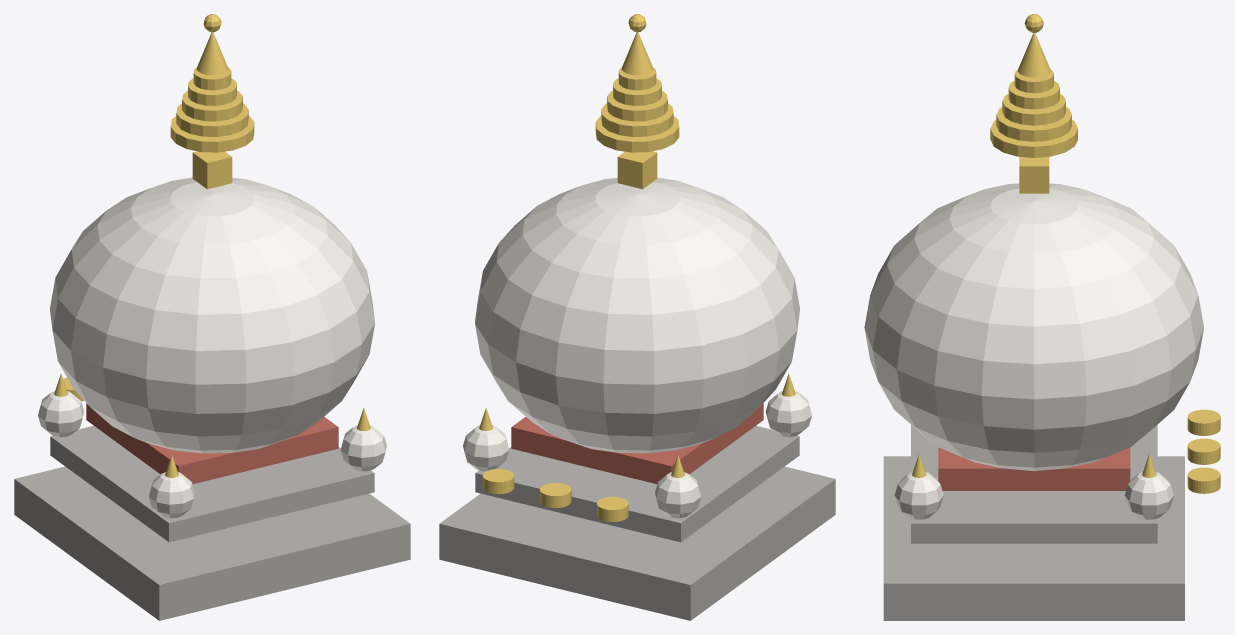
File: roadside_shrine.glb
3 renders of one model, left to right at view 1: azimuth 30°, elevation 25°; view 2: azimuth 150°, elevation 25°; view 3: azimuth 270°, elevation 25°, orthographic. The views are drawn at different scales.
Visible parts, largest first — view 1: Sphere, Cube, Cube.001, Cube.002, Sphere.002, Sphere.003, Sphere.004, Cylinder, Cube.003, Cylinder.001, Cylinder.002, Cylinder.003 (+2 smaller); view 2: Sphere, Cube, Cube.001, Cube.002, Sphere.002, Sphere.003, Sphere.005, Cylinder, Cube.003, Cylinder.001, Cylinder.002, Cylinder.003 (+5 smaller); view 3: Sphere, Cube, Cube.001, Cube.002, Sphere.004, Sphere.005, Cylinder, Cylinder.001, Cylinder.002, Cube.003, Cylinder.003, Cone (+4 smaller).
Boxes of the visible parts, x1=… form: Sphere: x1=50, y1=177, x2=374, y2=453; Cube: x1=14, y1=466, x2=410, y2=620; Cube.001: x1=50, y1=426, x2=374, y2=542; Cube.002: x1=86, y1=403, x2=338, y2=483; Sphere.002: x1=148, y1=472, x2=194, y2=518; Sphere.003: x1=38, y1=391, x2=84, y2=437; Sphere.004: x1=340, y1=425, x2=386, y2=471; Cylinder: x1=170, y1=115, x2=254, y2=152; Cube.003: x1=192, y1=151, x2=232, y2=189; Cylinder.001: x1=176, y1=103, x2=248, y2=136; Cylinder.002: x1=182, y1=90, x2=242, y2=121; Cylinder.003: x1=188, y1=78, x2=236, y2=105; Sphere: x1=475, y1=177, x2=799, y2=453; Cube: x1=439, y1=466, x2=835, y2=620; Cube.001: x1=475, y1=426, x2=799, y2=542; Cube.002: x1=511, y1=403, x2=763, y2=483; Sphere.002: x1=765, y1=391, x2=811, y2=437; Sphere.003: x1=655, y1=472, x2=701, y2=518; Sphere.005: x1=463, y1=425, x2=509, y2=471; Cylinder: x1=595, y1=115, x2=679, y2=152; Cube.003: x1=617, y1=151, x2=657, y2=189; Cylinder.001: x1=601, y1=103, x2=673, y2=136; Cylinder.002: x1=607, y1=90, x2=667, y2=121; Cylinder.003: x1=613, y1=78, x2=661, y2=105; Sphere: x1=864, y1=183, x2=1203, y2=471; Cube: x1=883, y1=456, x2=1184, y2=620; Cube.001: x1=911, y1=425, x2=1157, y2=543; Cube.002: x1=938, y1=447, x2=1130, y2=490; Sphere.004: x1=894, y1=472, x2=943, y2=519; Sphere.005: x1=1124, y1=472, x2=1173, y2=519; Cylinder: x1=990, y1=119, x2=1077, y2=157; Cylinder.001: x1=996, y1=107, x2=1071, y2=141; Cylinder.002: x1=1002, y1=94, x2=1065, y2=125; Cube.003: x1=1019, y1=157, x2=1049, y2=193; Cylinder.003: x1=1008, y1=81, x2=1059, y2=109; Cone: x1=1018, y1=33, x2=1050, y2=77.
Bounding box in the file's own units: 1.24 × 2.18 × 1.3.
